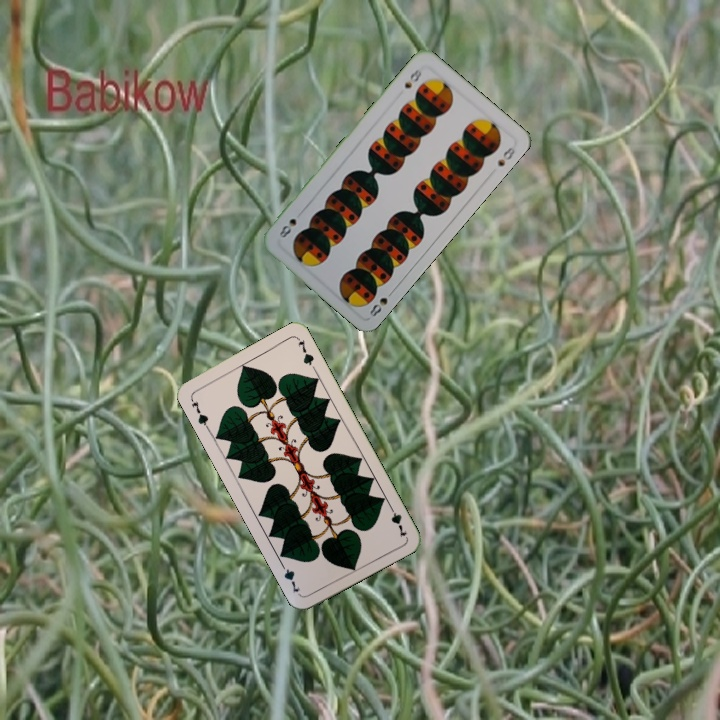G7: (385, 500, 410, 540), (186, 394, 211, 432)
S8: (366, 285, 397, 319), (400, 62, 424, 91)
